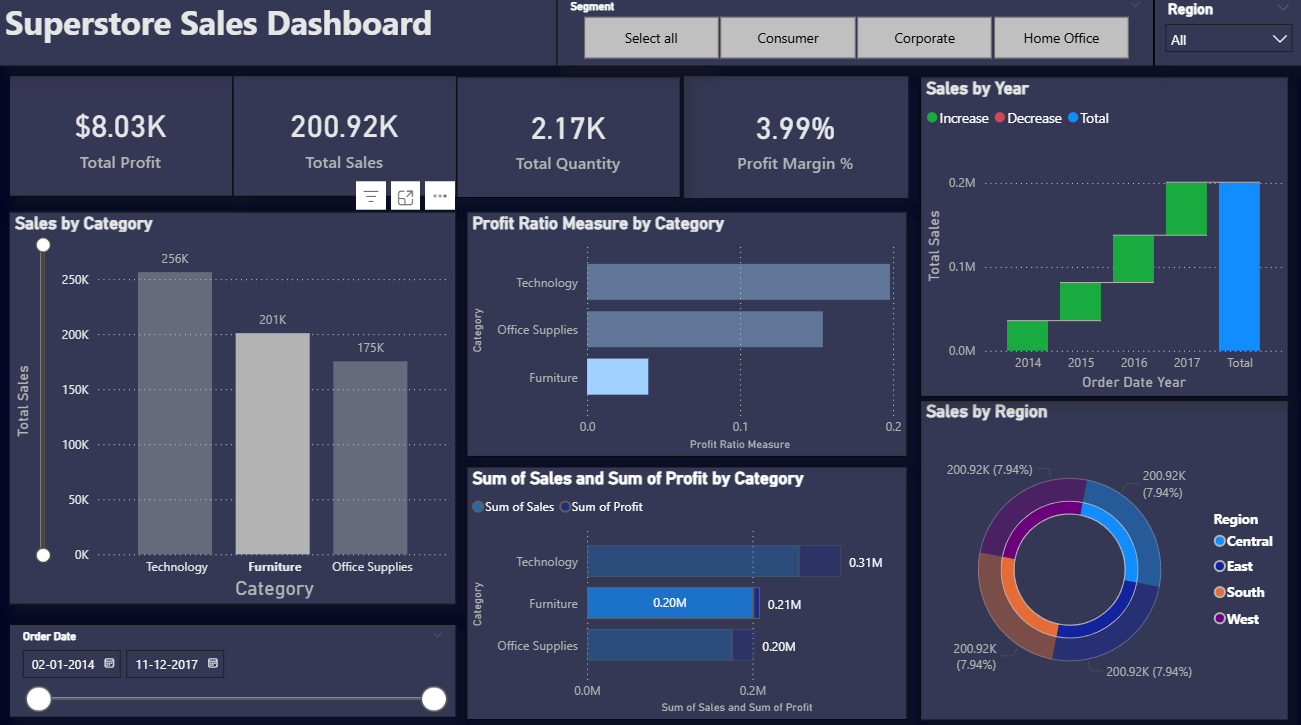

This screenshot's page, from the dashboard's own definition file:
{"tool":"powerbi","page":{"name":"Page 4","canvas":[1280,720],"ordinal":3},"visuals":[{"type":"card","fields":{"Values":["Store.Total Profit"]},"box":[9.8,79.8,219.6,119],"z":0},{"type":"card","fields":{"Values":["Store.Total Sales"]},"box":[229.4,79.8,219.6,119],"z":1000},{"type":"card","fields":{"Values":["Store.Profit Margin %"]},"box":[672.4,81,219.6,119],"z":2000},{"type":"card","fields":{"Values":["Customer Details.Total Quantity"]},"box":[449.1,81,219.6,119],"z":3000},{"type":"textbox","box":[0,0,694.5,71.2],"z":4000},{"type":"columnChart","title":"Sales by Category","fields":{"Category":["Product Details.Category"],"Y":["Store.Total Sales"]},"box":[9.8,213.5,439.3,386.5],"z":5000},{"type":"donutChart","title":" Sales by Region","fields":{"Category":["Location Details.Region"],"Y":["Store.Total Sales"]},"box":[904.3,398.8,362,314.1],"z":6000},{"type":"waterfallChart","title":" Sales by Year","fields":{"Category":["Store.Order Date.Variation.Date Hierarchy.Year","Store.Order Date.Variation.Date Hierarchy.Quarter","Store.Order Date.Variation.Date Hierarchy.Month","Store.Order Date.Variation.Date Hierarchy.Day"],"Y":["Store.Total Sales"]},"box":[904.3,81,362,314.1],"z":7000},{"type":"barChart","fields":{"Category":["Product Details.Category"],"Y":["Store.Profit Ratio Measure"]},"box":[458.9,213.5,433.1,240.5],"z":8000},{"type":"slicer","fields":{"Values":["Customer Details.Segment"]},"box":[547.2,0,586.5,71.2],"z":9000},{"type":"slicer","fields":{"Values":["Location Details.Region"]},"box":[1133.5,0,146.8,71.4],"z":10000},{"type":"slicer","fields":{"Values":["Store.Order Date"]},"box":[9.6,618.9,439.1,91.9],"z":11000},{"type":"barChart","fields":{"Category":["Product Details.Category"],"Y":["Sum(Store.Sales)","Sum(Store.Profit)"]},"box":[458.9,463.8,433.1,249.1],"z":12000}]}

Visuals, with their boxes in screenshot pixels (x1, y1, x2, y2), scaled from the page's 1280x720 canvas onto the 1301x725 screenshot:
card - Store.Total Profit: crop(10, 80, 233, 200)
card - Store.Total Sales: crop(233, 80, 456, 200)
card - Store.Profit Margin %: crop(683, 82, 907, 201)
card - Customer Details.Total Quantity: crop(456, 82, 680, 201)
textbox: crop(0, 0, 706, 72)
"Sales by Category" columnChart: crop(10, 215, 456, 604)
" Sales by Region" donutChart: crop(919, 402, 1287, 718)
" Sales by Year" waterfallChart: crop(919, 82, 1287, 398)
barChart - Product Details.Category x Store.Profit Ratio Measure: crop(466, 215, 907, 457)
slicer - Customer Details.Segment: crop(556, 0, 1152, 72)
slicer - Location Details.Region: crop(1152, 0, 1300, 72)
slicer - Store.Order Date: crop(10, 623, 456, 716)
barChart - Product Details.Category x Sum(Store.Sales): crop(466, 467, 907, 718)
